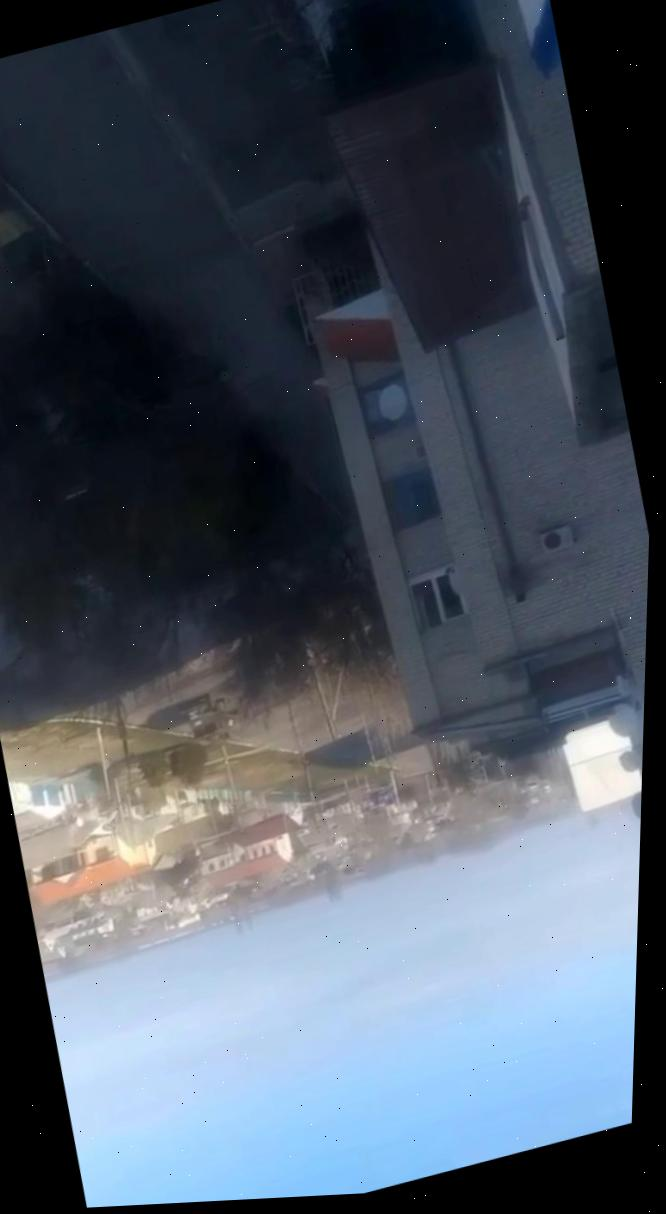truck: (174, 684, 248, 750)
